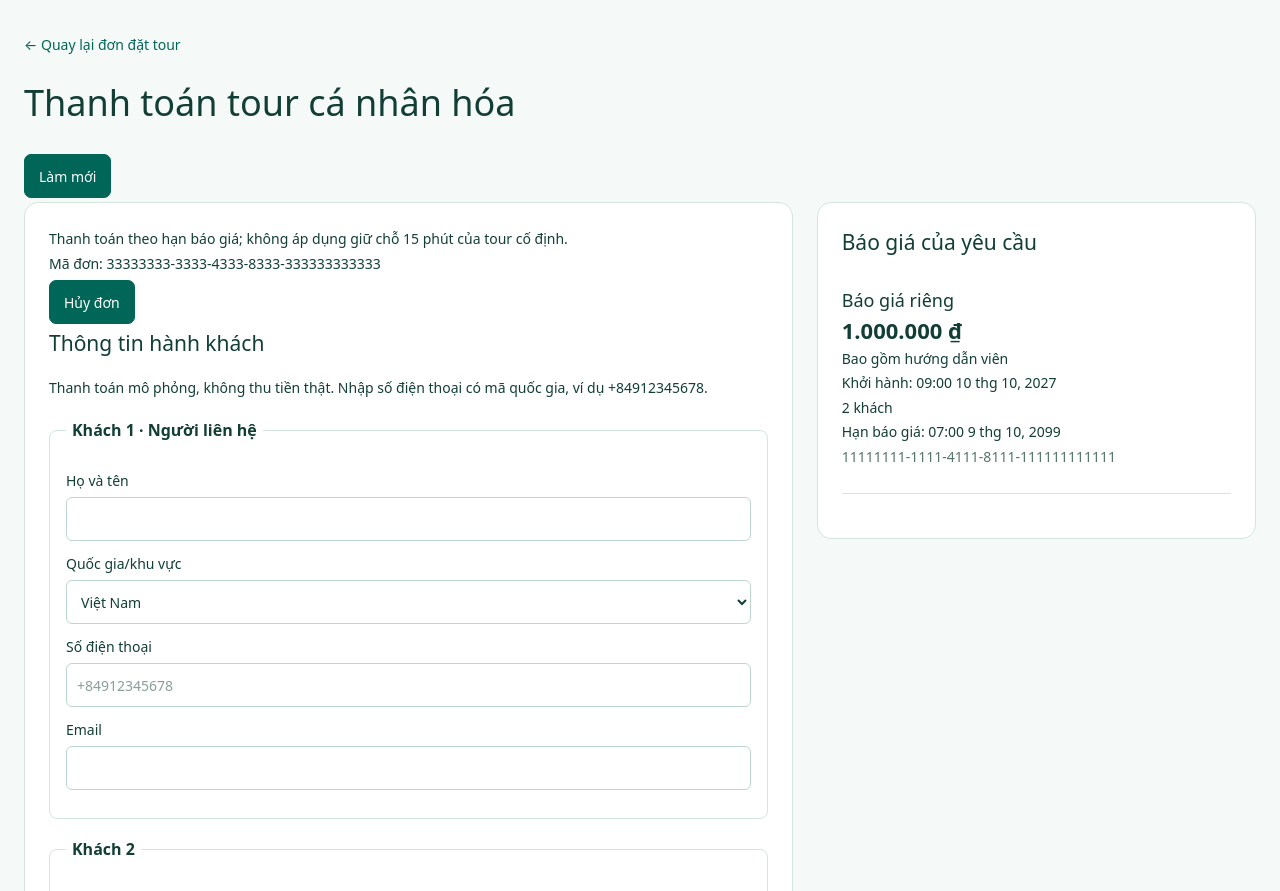
Scenario: preserves entered travelers when returning from review to edit
Expected: the heading "Thông tin hành khách" is shown, [49,329,264,357]
In the field labelled "Họ và tên": (408, 519) [66,497,751,541], type "Saved traveler"
(page scrolled)
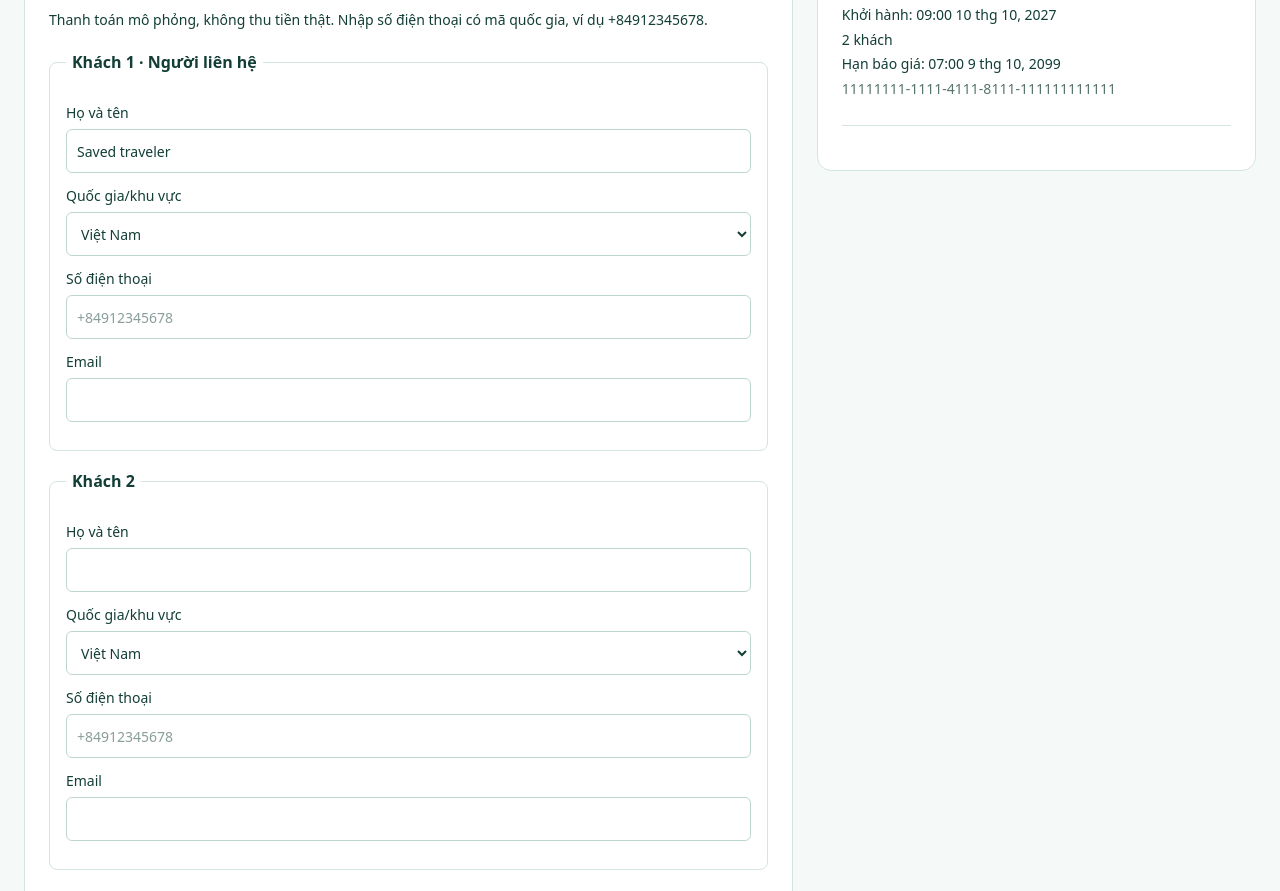
Submit the form
(page scrolled)
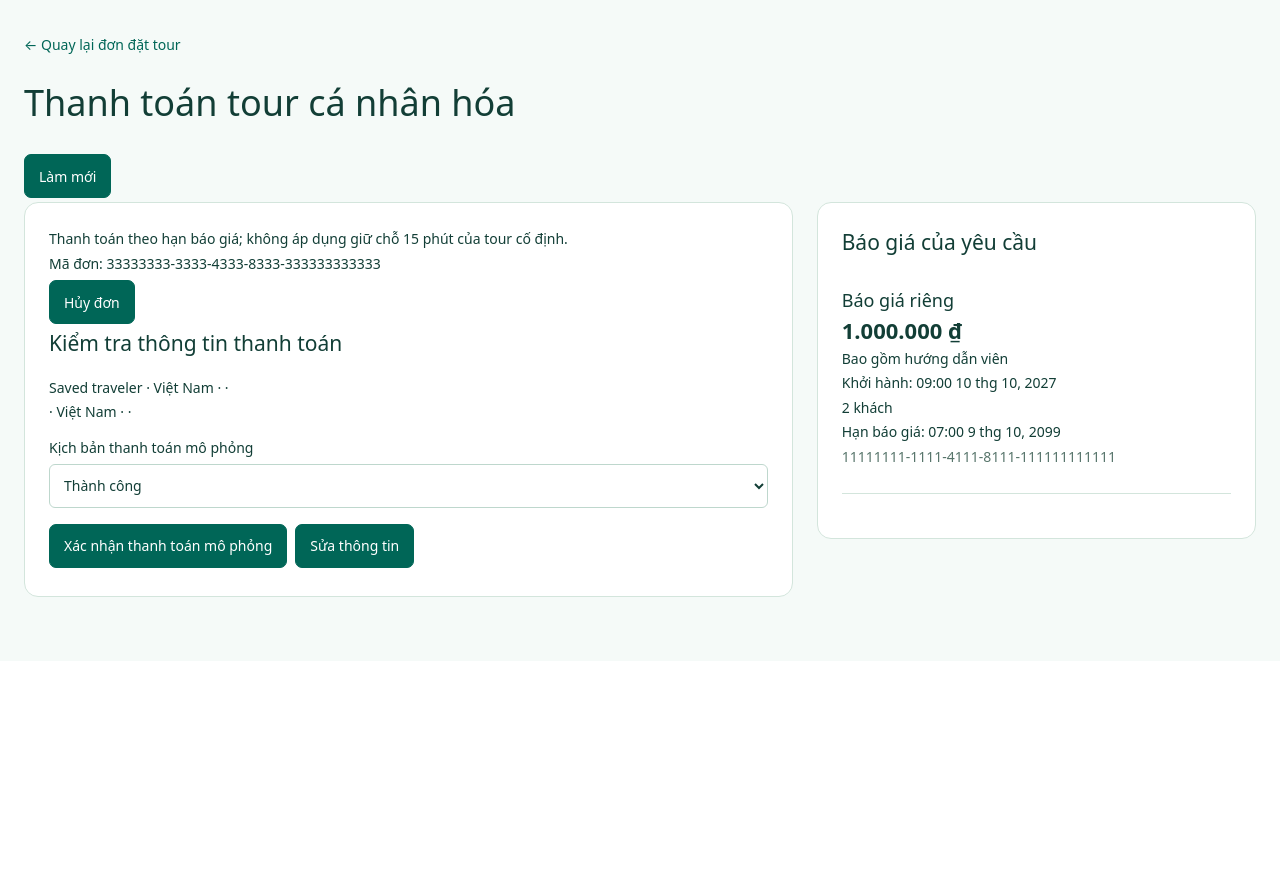
Click the button "Sửa thông tin": (355, 546) [295,524,414,568]
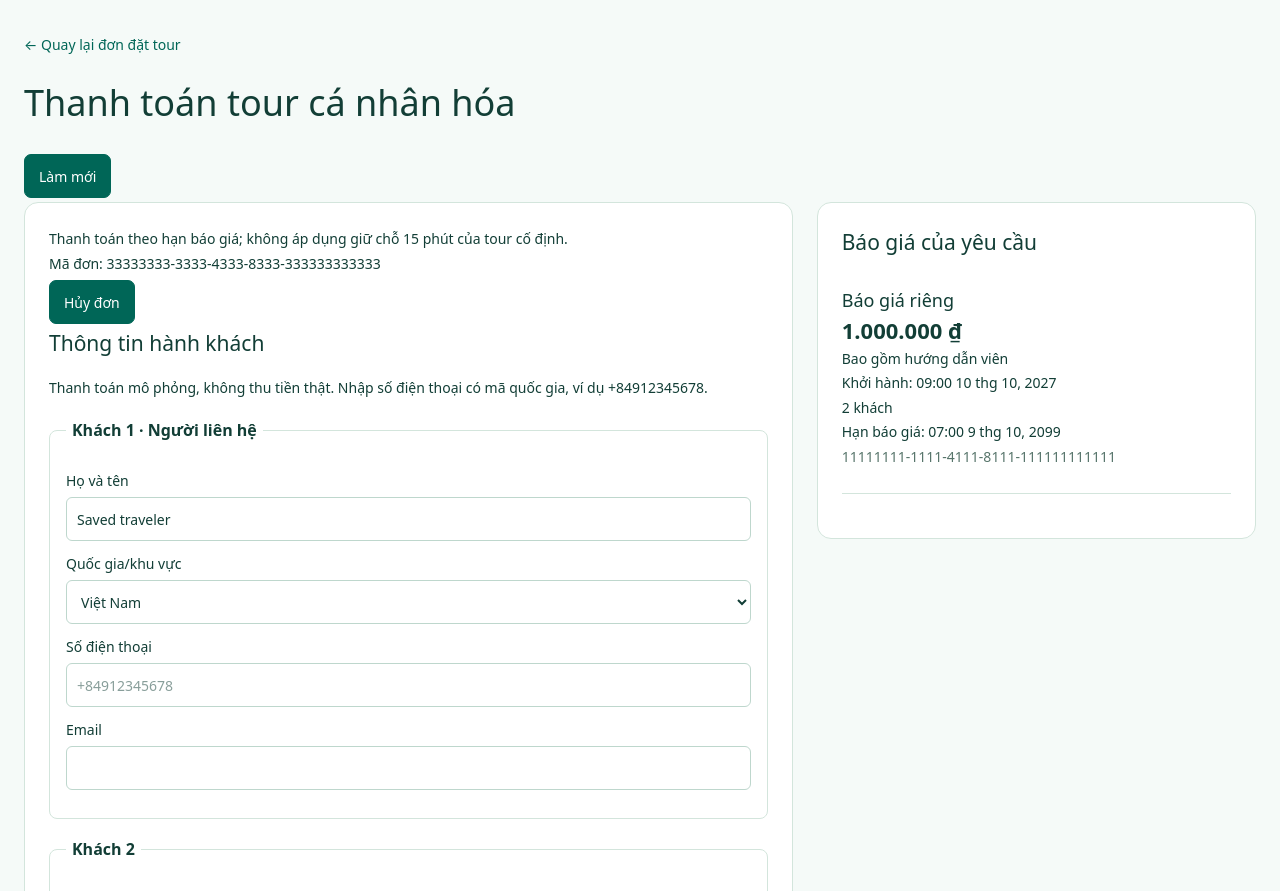
Expected: the field labelled "Họ và tên" holds "Saved traveler", [66,497,751,541]
